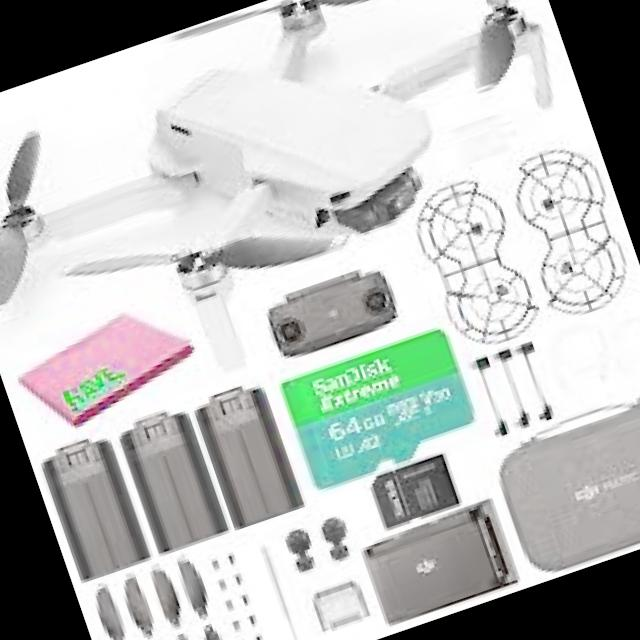drone: (0, 0, 628, 440)
